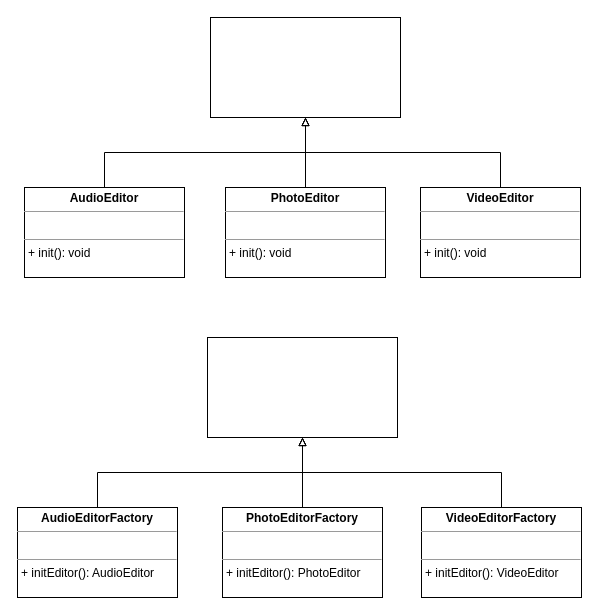
The diagram is 599 pixels wide and 615 high, and some of its shapes have lost their labels. The shapes that lost their labels are listed below. From the top down, each one's centre as x and y in pixels, then its label:
At (305,67): "<<Interface>> Editor + init(): void".
At (302,387): "<<Interface>> EditorFactory + initEditor(): Editor".
